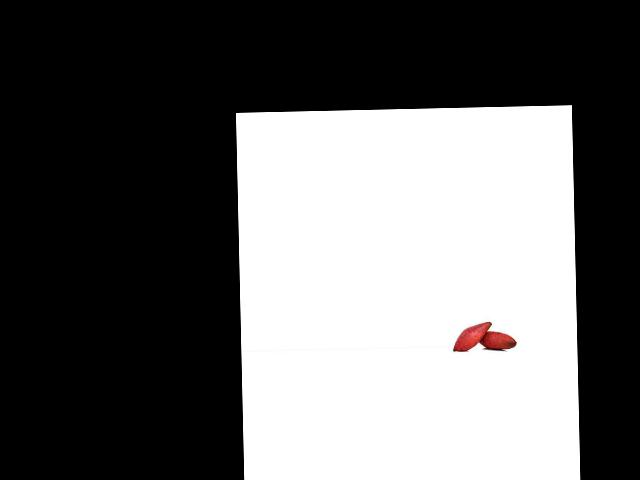sweet_potato: (475, 328, 518, 350)
